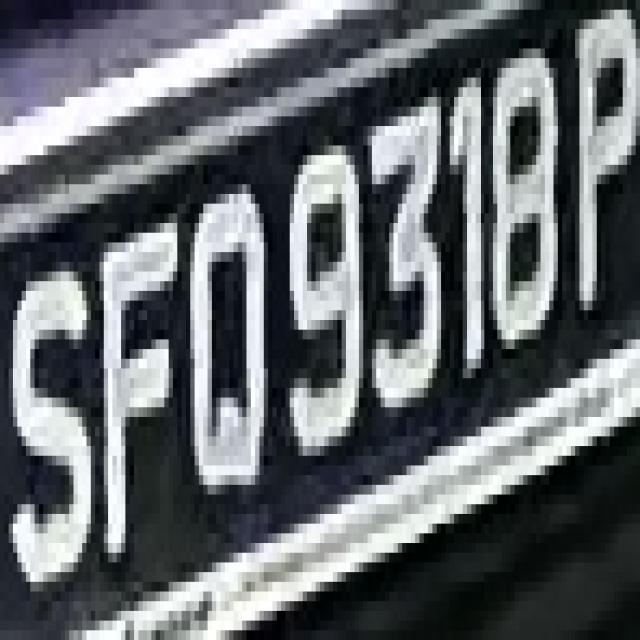1: (441, 39, 493, 436)
3: (346, 78, 445, 446)
8: (488, 19, 570, 378)
9: (281, 126, 368, 485)
F: (82, 165, 182, 572)
P: (562, 0, 640, 330)
Q: (182, 194, 281, 533)
S: (0, 223, 95, 621)
